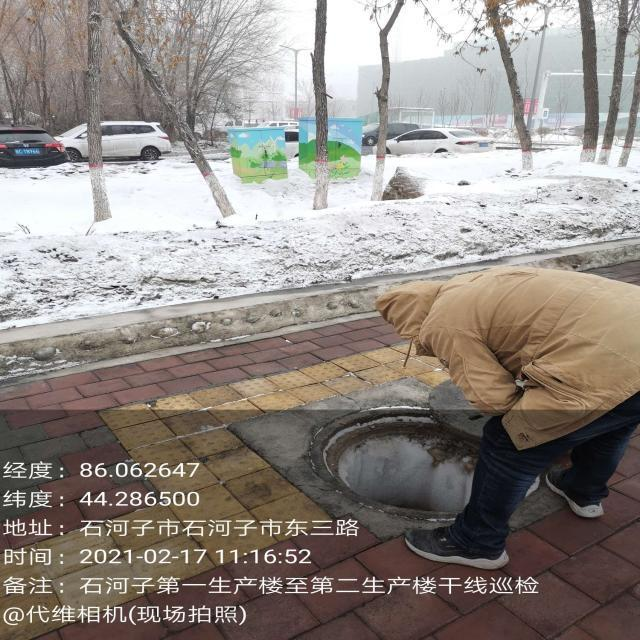manhole: (309, 406, 478, 521)
